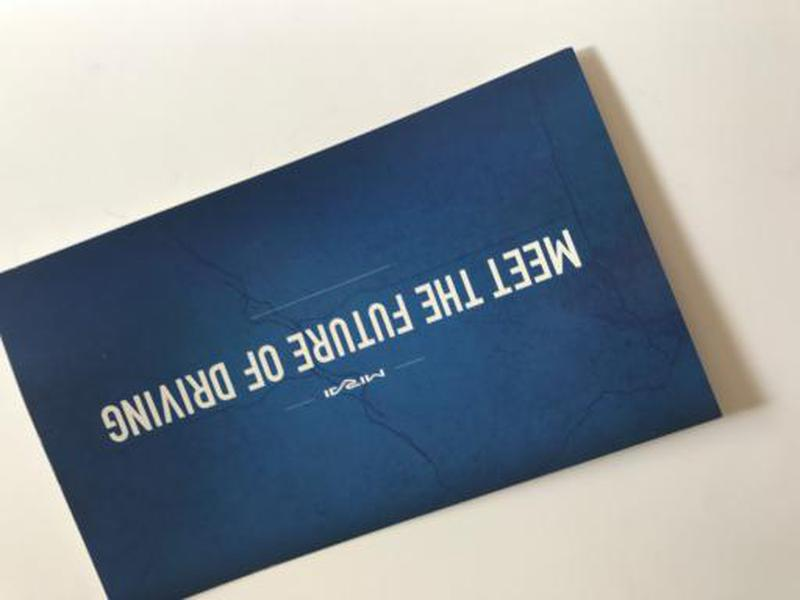paper: (1, 45, 724, 600)
